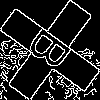B: (25, 25, 81, 79)
